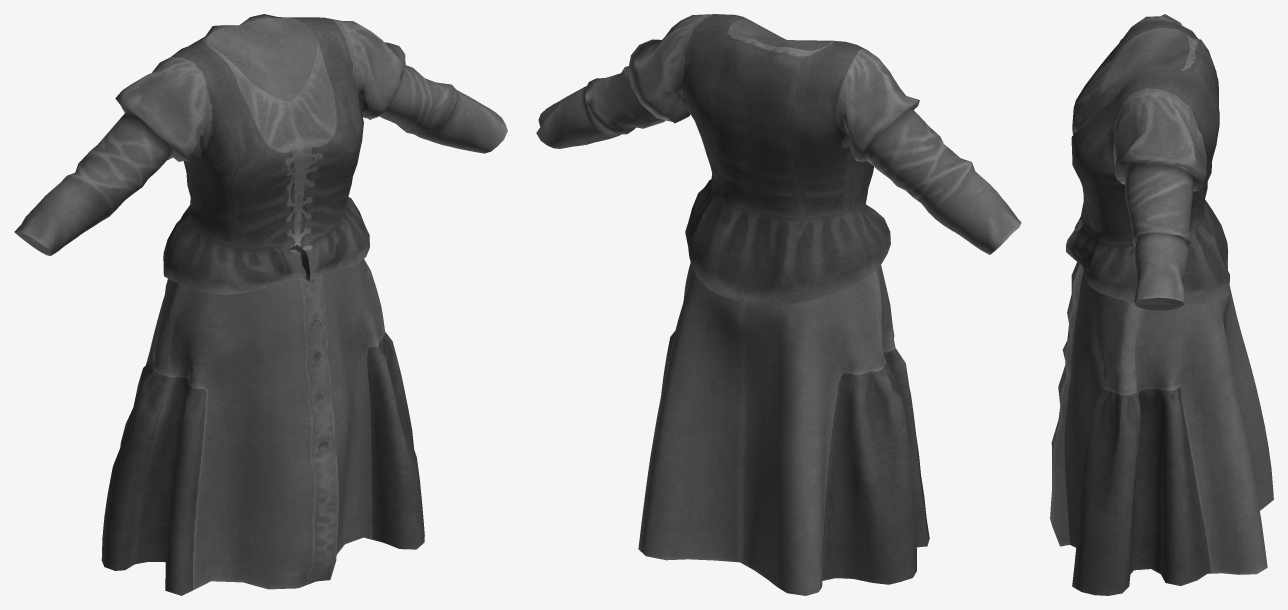
Rendered from sk_dwarf_dress_normal_a.fbx.
3 views of the same model, side by side, from view 1: azimuth 30°, elevation 25°; view 2: azimuth 150°, elevation 25°; view 3: azimuth 270°, elevation 25° (orthographic). The views are drawn at different scales.
Visible parts, largest first — view 1: sk_dwarf_dress_normal_a; view 2: sk_dwarf_dress_normal_a; view 3: sk_dwarf_dress_normal_a.
Part boxes in pixels (x1,y1,x2,y2): sk_dwarf_dress_normal_a: [14, 14, 507, 595]; sk_dwarf_dress_normal_a: [536, 14, 1021, 595]; sk_dwarf_dress_normal_a: [1050, 14, 1273, 595].
Size of the model in its own units: 1.19 by 0.5049 by 1.22.
1 material, 1 textured.
